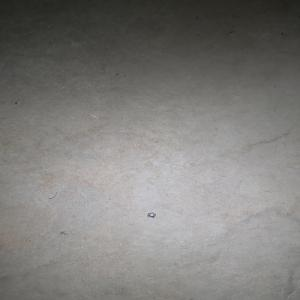Nut: (146, 212, 156, 218)
